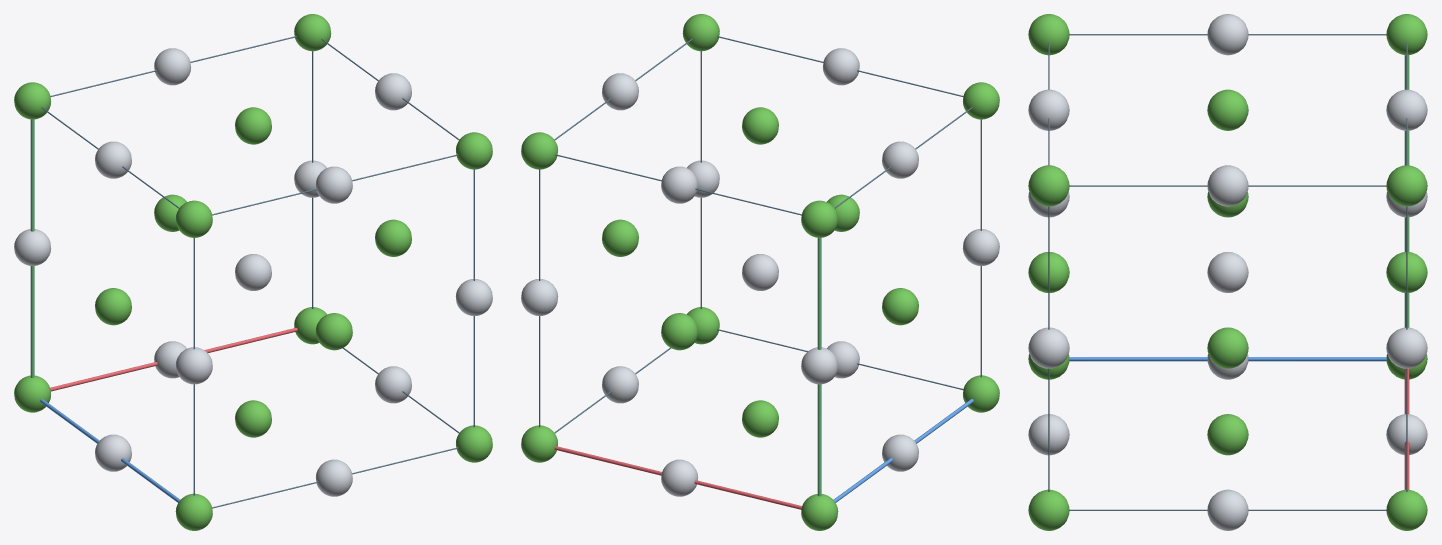
Rendered from chat-silver-chloride.glb.
3 renders of one model, left to right at view 1: azimuth 30°, elevation 25°; view 2: azimuth 150°, elevation 25°; view 3: azimuth 270°, elevation 25°, orthographic. The views are drawn at different scales.
Visible parts, largest first — view 1: Cl · Cl · 1 (×14), Ag · Ag · 1 (×13), Ô mạng và các trục a, b, c; view 2: Cl · Cl · 1 (×14), Ag · Ag · 1 (×13), Ô mạng và các trục a, b, c; view 3: Cl · Cl · 1 (×13), Ag · Ag · 1 (×13), Ô mạng và các trục a, b, c.
Part boxes in pixels (left/top/right/bottom): Cl · Cl · 1 (×14): left=14, top=14, right=492, bottom=530; Ag · Ag · 1 (×13): left=14, top=48, right=492, bottom=496; Ô mạng và các trục a, b, c: left=30, top=36, right=474, bottom=508; Cl · Cl · 1 (×14): left=521, top=14, right=999, bottom=530; Ag · Ag · 1 (×13): left=521, top=48, right=999, bottom=496; Ô mạng và các trục a, b, c: left=539, top=36, right=981, bottom=509; Cl · Cl · 1 (×13): left=1028, top=14, right=1427, bottom=530; Ag · Ag · 1 (×13): left=1028, top=14, right=1427, bottom=530; Ô mạng và các trục a, b, c: left=1048, top=34, right=1409, bottom=510.
Size of the model in its own units: 6.19 by 6.19 by 6.19.
